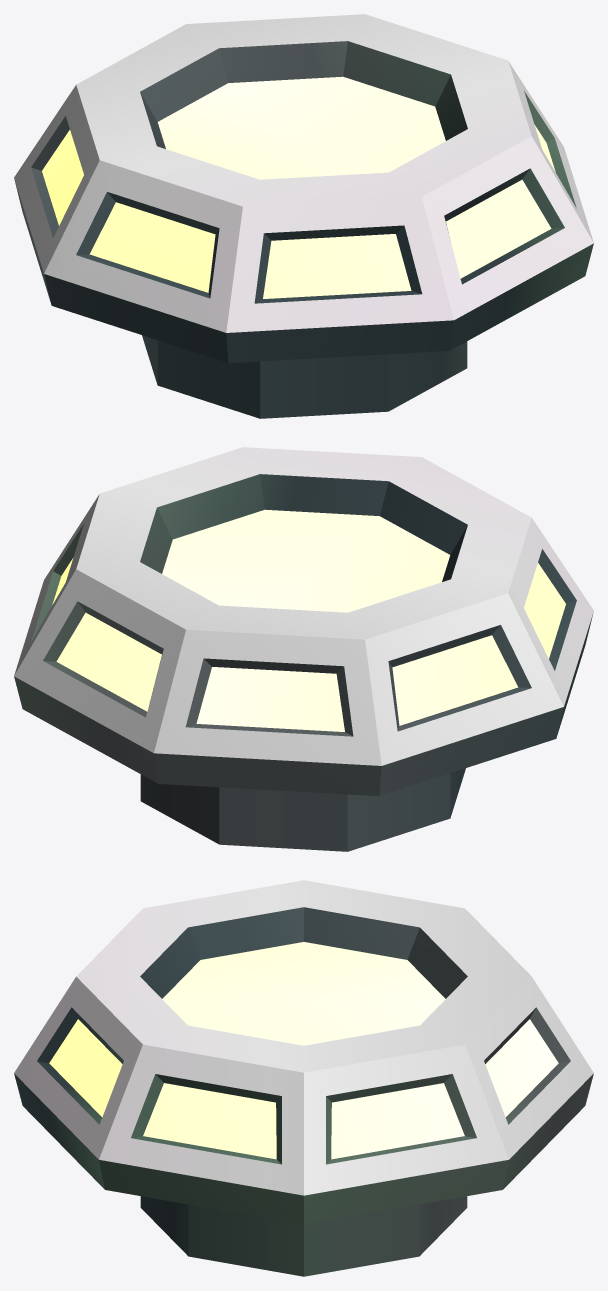
Rendered from Chandelier.fbx.
3 renders of one model, top to bottom at view 1: azimuth 30°, elevation 25°; view 2: azimuth 150°, elevation 25°; view 3: azimuth 270°, elevation 25°, orthographic. The views are drawn at different scales.
Parts seen in each view (by area): view 1: Chandelier; view 2: Chandelier; view 3: Chandelier.
Part boxes in pixels (box(x1,y1,x2,y2)): Chandelier: box(14, 14, 593, 418); Chandelier: box(14, 447, 593, 851); Chandelier: box(14, 880, 593, 1276).
Bounding box in the file's own units: 100 × 44 × 100.
